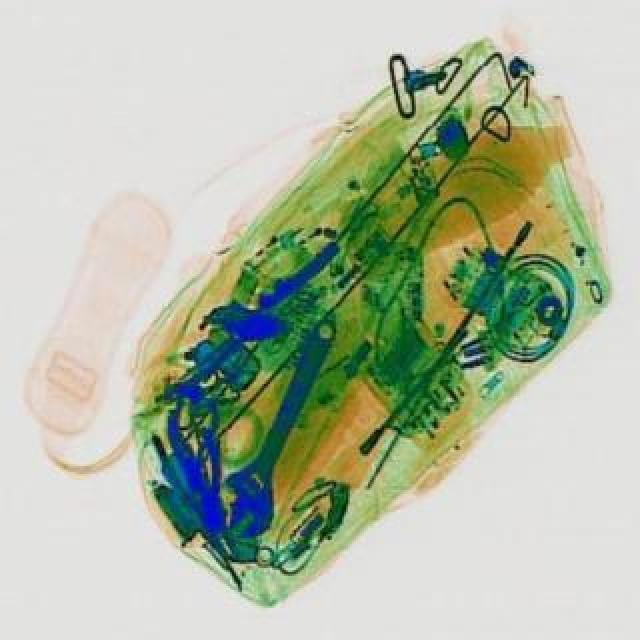scissors: (202, 304, 358, 540)
wrench: (158, 398, 238, 534)
